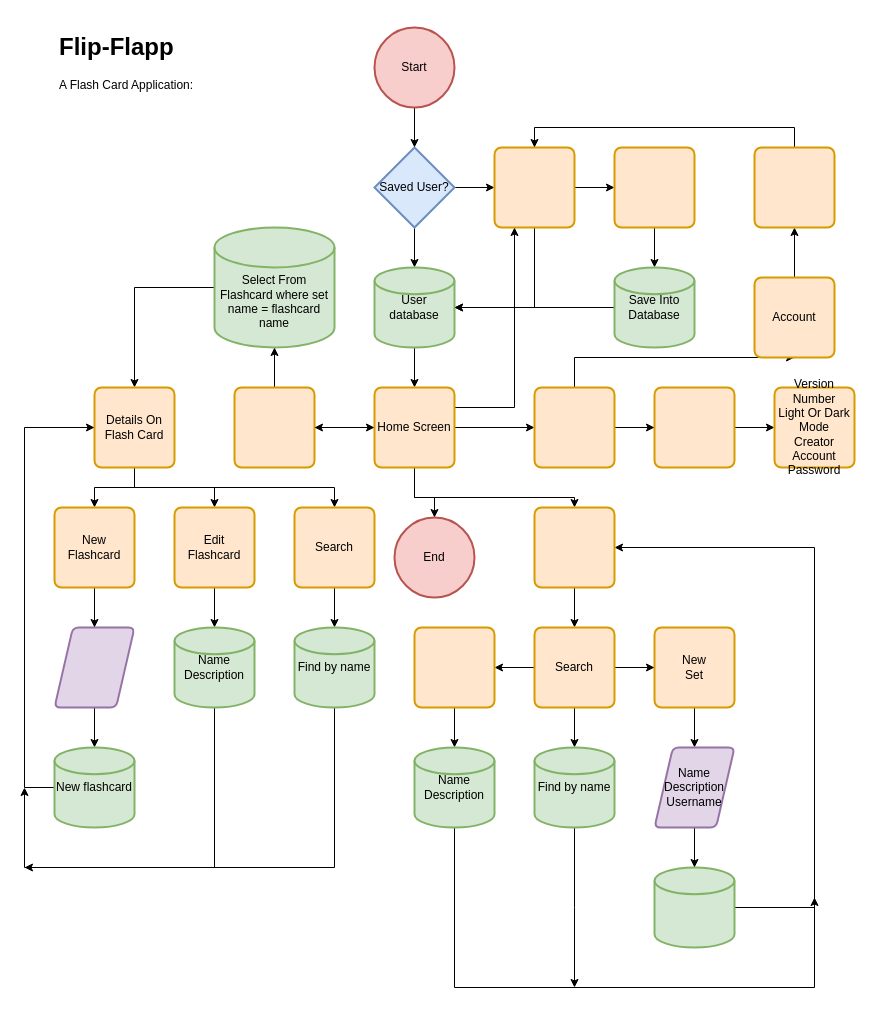
Image size: 873x1013. Some labels were removed from this diagram. The shapes that lost their labels are listed below. From the top down, each one's box as (x1, y1, x2, y2) in pixels, then its label:
(493, 146, 575, 228): Sign In
(613, 146, 695, 228): Sign Up
(753, 146, 835, 228): Sign Out
(233, 386, 315, 468): Details On Sets
(533, 386, 615, 468): Drawer
(653, 386, 735, 468): Settings
(533, 506, 615, 588): Menu
(53, 626, 135, 708): Name Description Setname Username
(413, 626, 495, 708): Edit
(653, 866, 735, 948): New Set in Set
